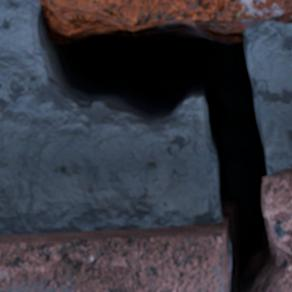brick: (39, 0, 291, 31)
broken_brick: (0, 251, 220, 291), (0, 221, 226, 250), (262, 168, 291, 254), (277, 263, 291, 291)
crack: (0, 1, 291, 291)
